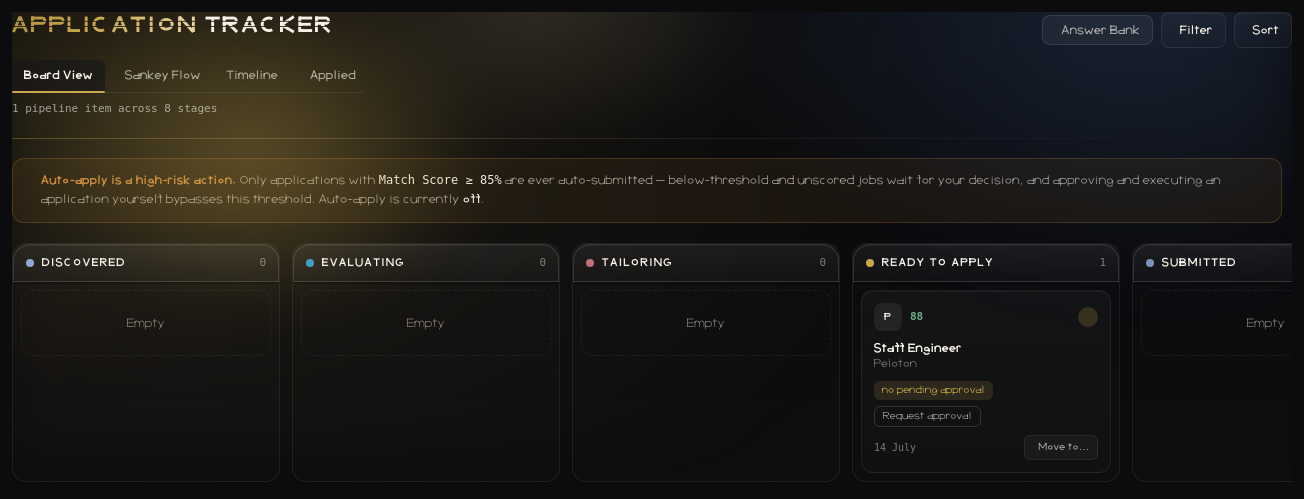
Test: Ready-column approval re-request (P0-3) › POSTs /approvals with the application context and reconciles on click
Click the button with test id "request-approval-button".
click(927, 416)  # box [874,406,981,426]
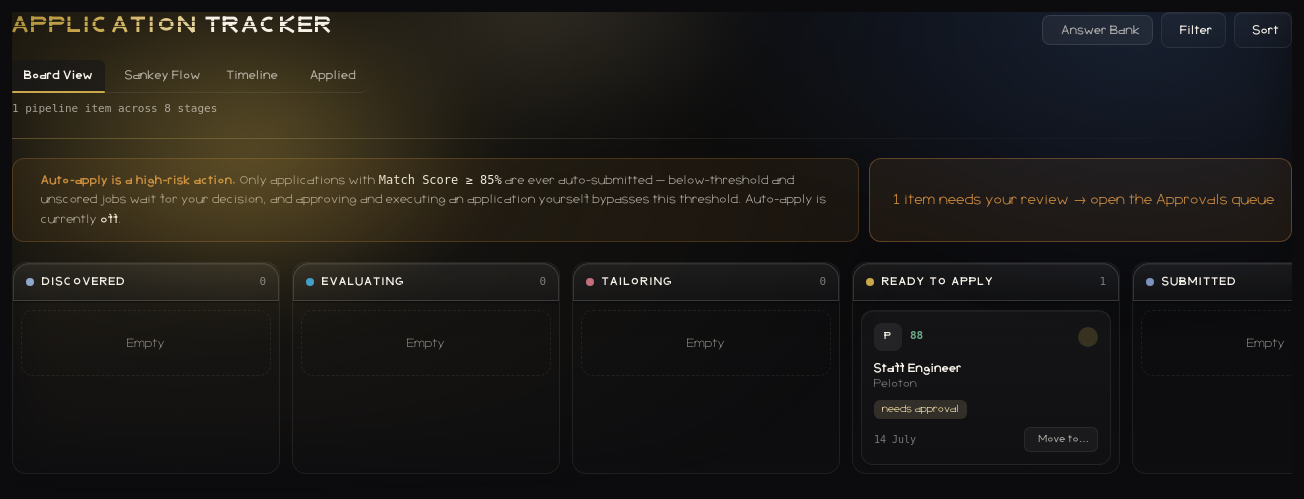
Check: the text "needs approval" is shown, box [874,400,967,419]
Check: the button with test id "request-approval-button" is gone
